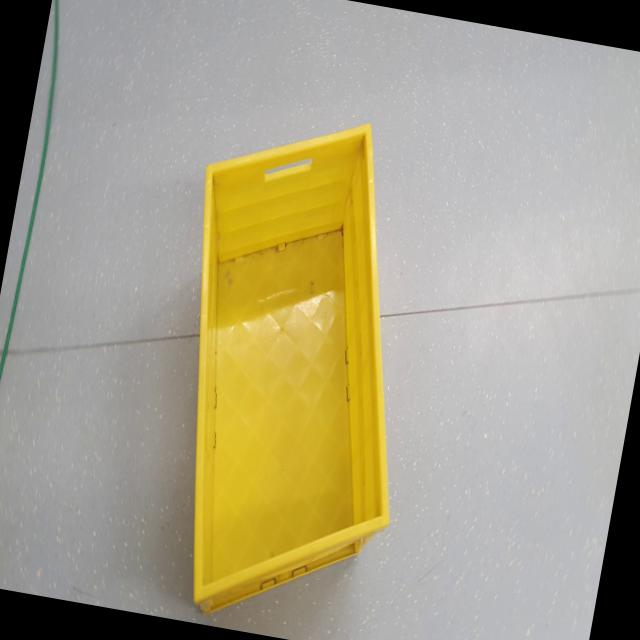box: (122, 79, 463, 640)
